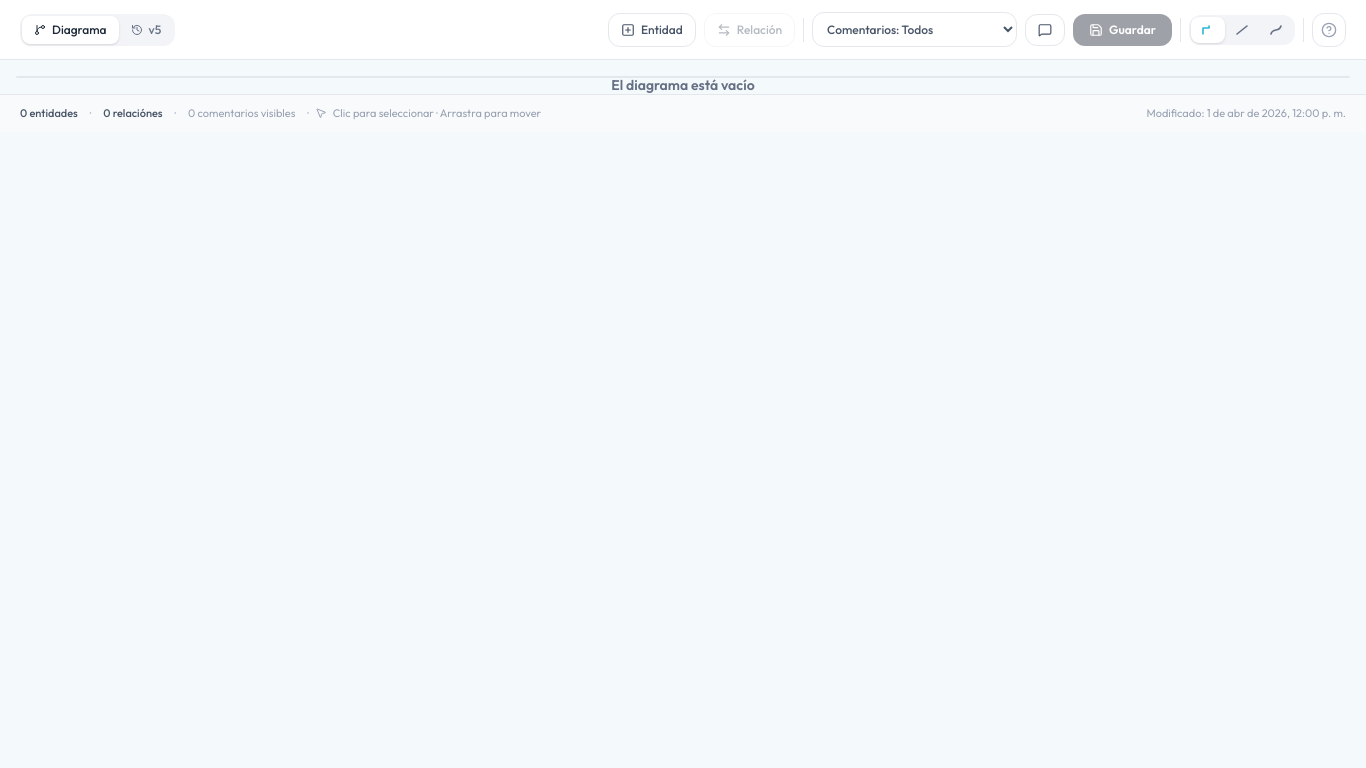
Conceptual editor flow › shows generic feedback modal for non-404 preview errors
The width and height of the screenshot is (1366, 768).
Click the button "v5" at (146, 30), box [118, 16, 173, 44]
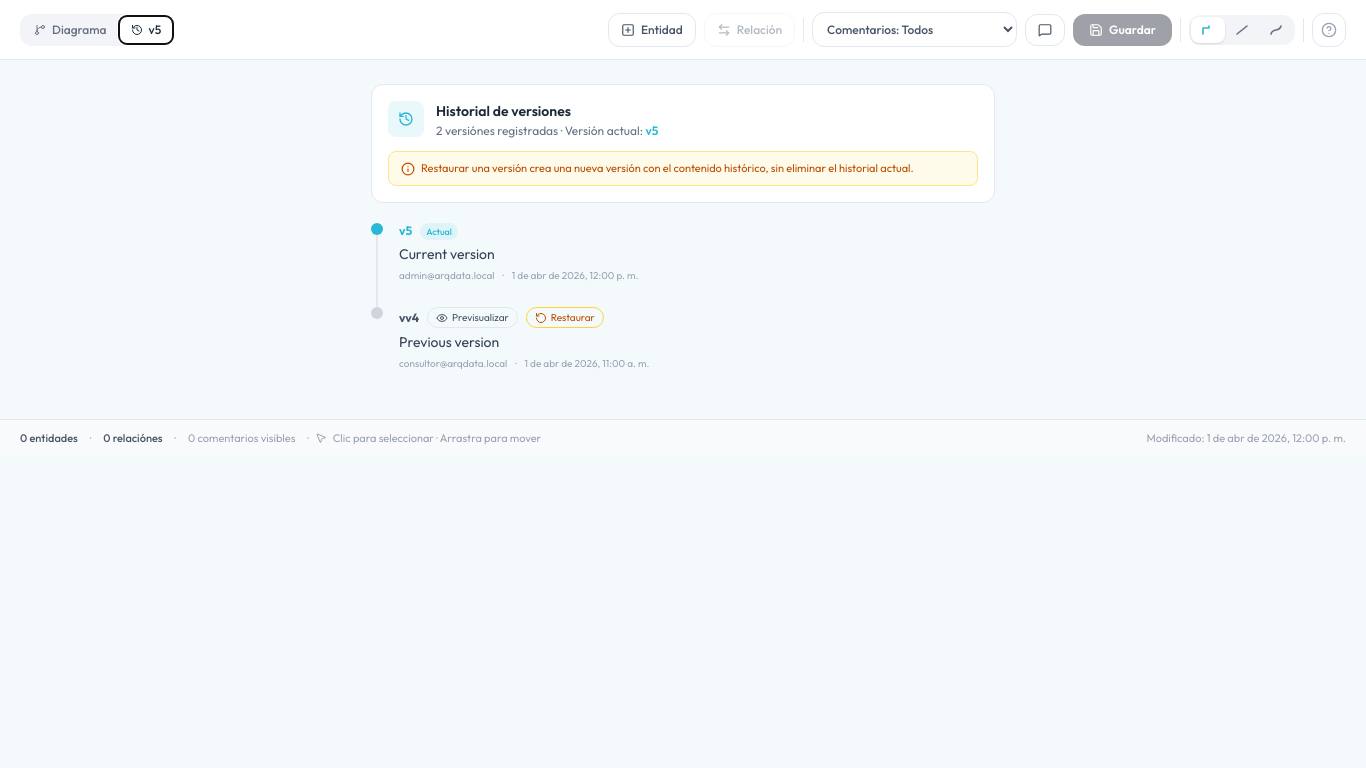
Click the button "Previsualizar" at (472, 318), box [427, 307, 518, 328]
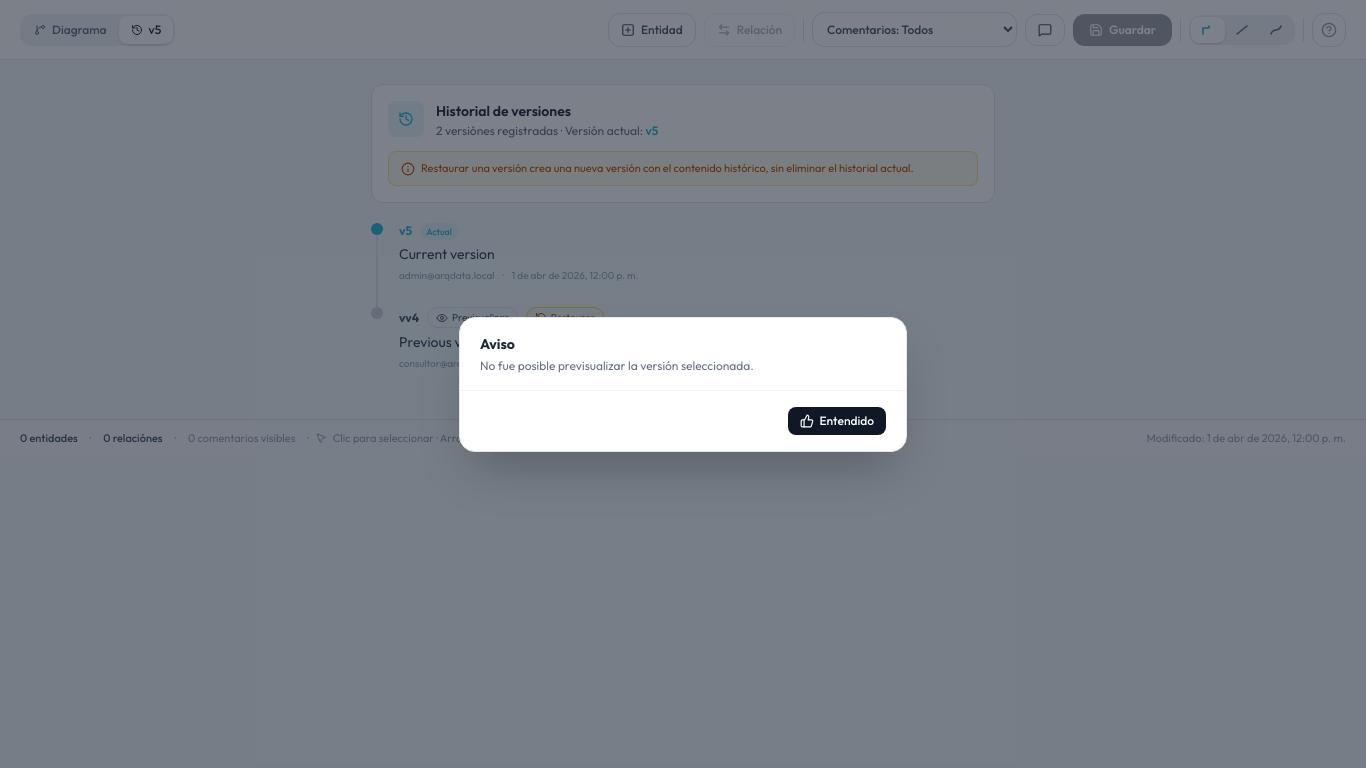
Expected: the text "No fue posible previsualizar la versión seleccionada." is shown, [480, 358, 754, 372]
